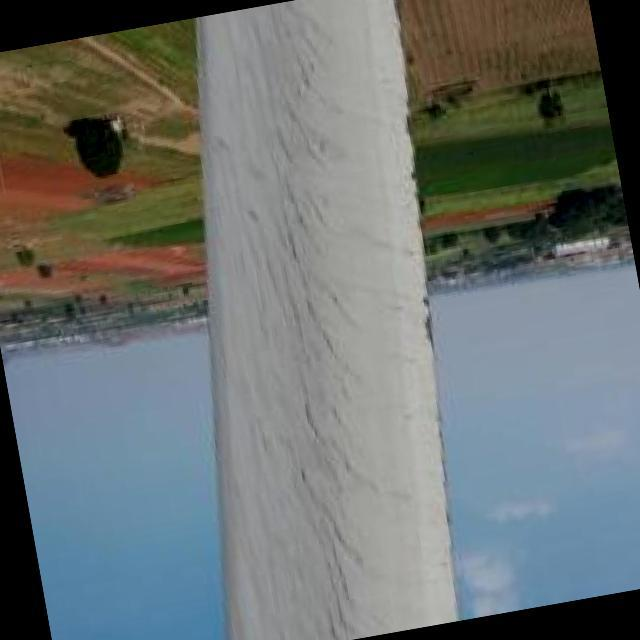Dirt: (199, 11, 465, 640)
